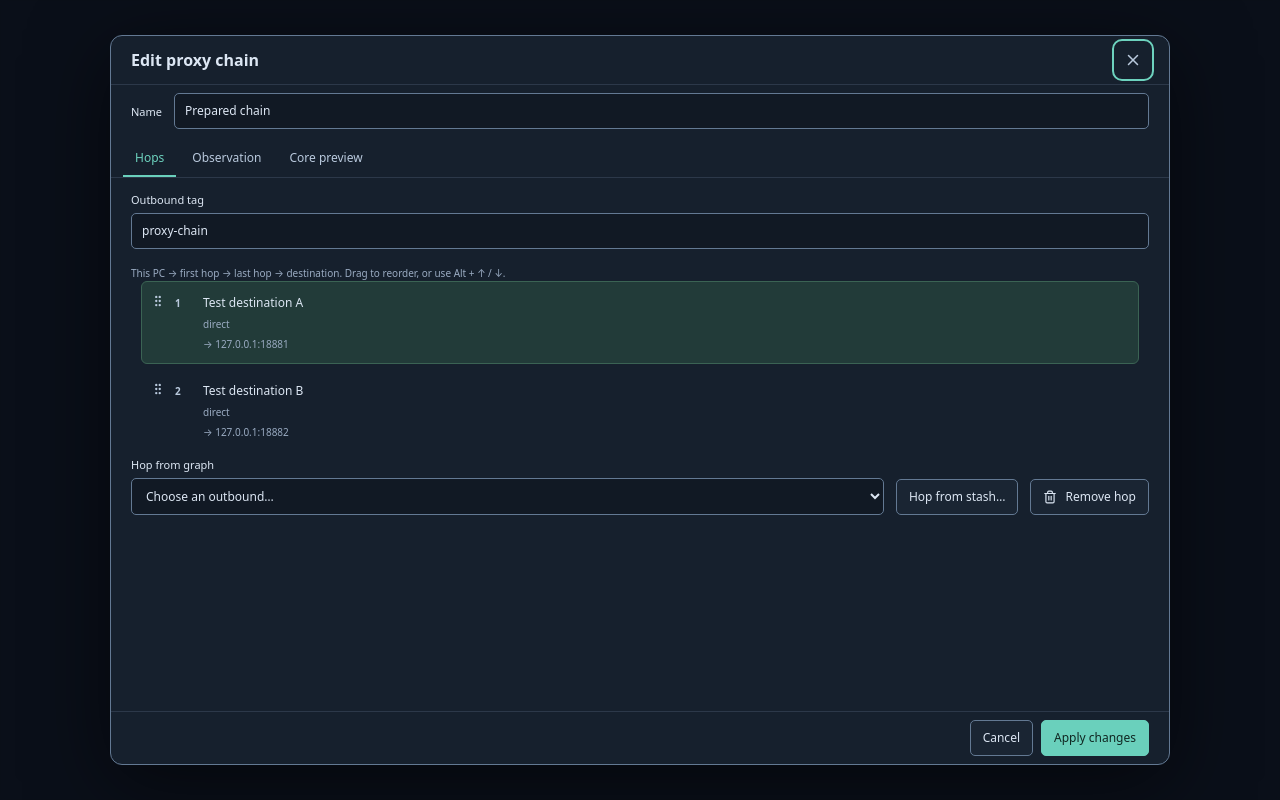
Test: reorders hops by keyboard with stable reference identity and retains a failed save for correction
This screenshot has width=1280, height=800.
Press ArrowDown in the button with class "rule-list-item" that starts with "Test destination A", box [141, 281, 1139, 364]
Wait 100 ms
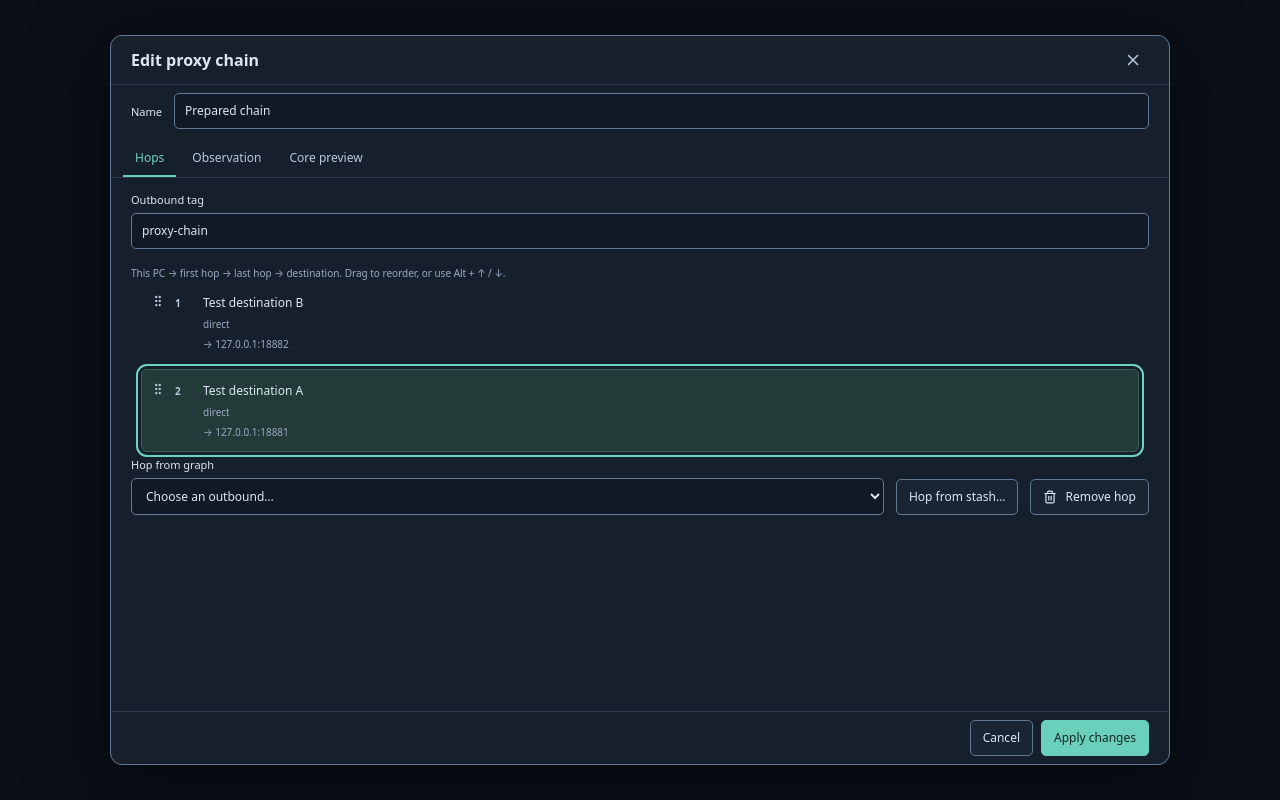
Click the button "Apply changes" at (1095, 738), box [1041, 720, 1149, 756]
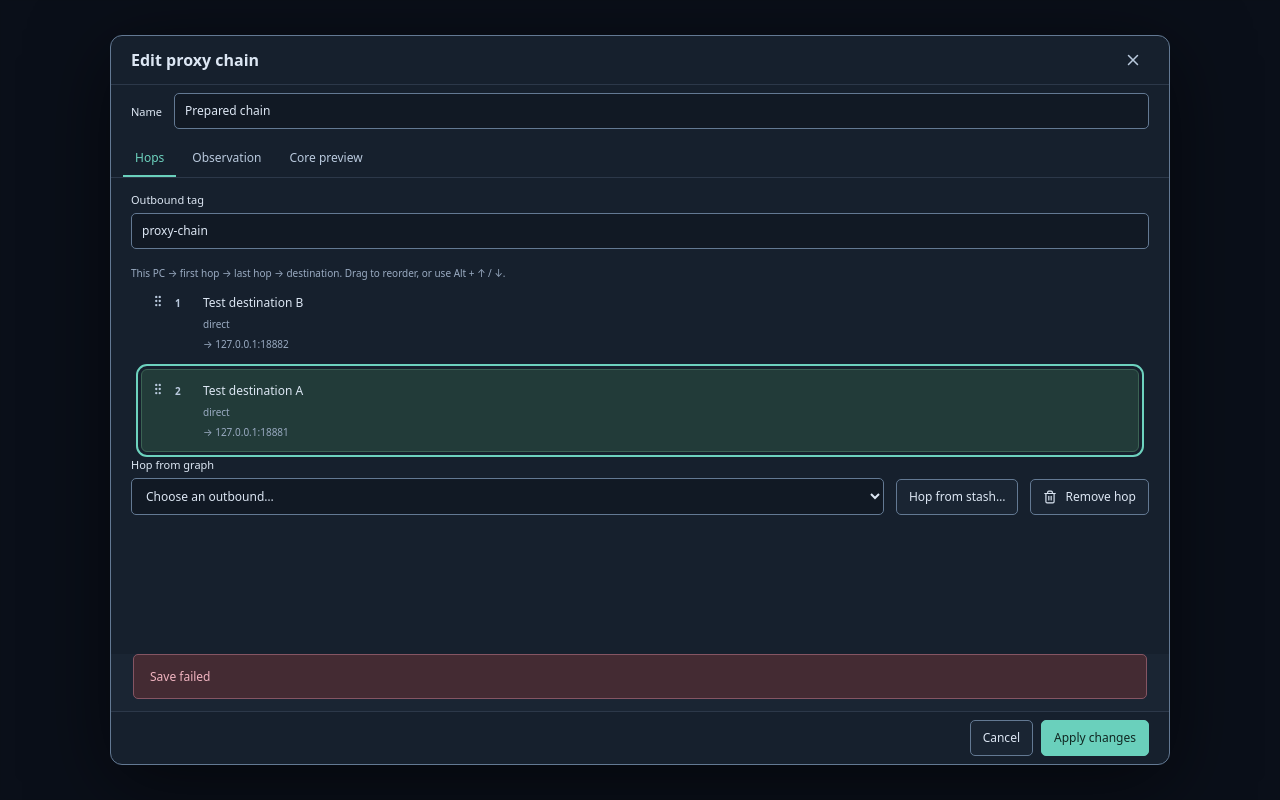
Expected: the text "Save failed" is shown, [133, 654, 1147, 699]
